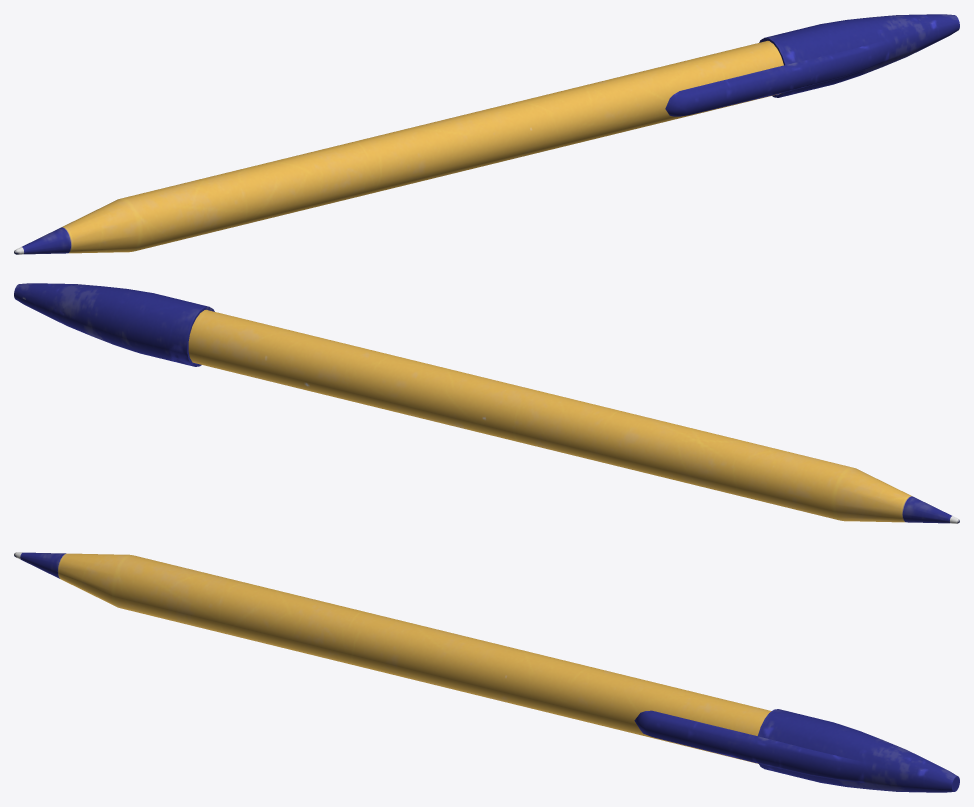
The model's file is pen.obj.
3 renders of one model, top to bottom at view 1: azimuth 30°, elevation 25°; view 2: azimuth 150°, elevation 25°; view 3: azimuth 330°, elevation 25°, orthographic.
Visible parts, largest first — view 1: blue_pen; view 2: blue_pen; view 3: blue_pen.
Boxes of the visible parts, left/top/right/bottom form: blue_pen: left=14, top=14, right=959, bottom=254; blue_pen: left=14, top=283, right=959, bottom=523; blue_pen: left=14, top=552, right=959, bottom=792.
Bounding box in the file's own units: 0.161 × 0.00905 × 0.0103.
1 material, 1 textured.
